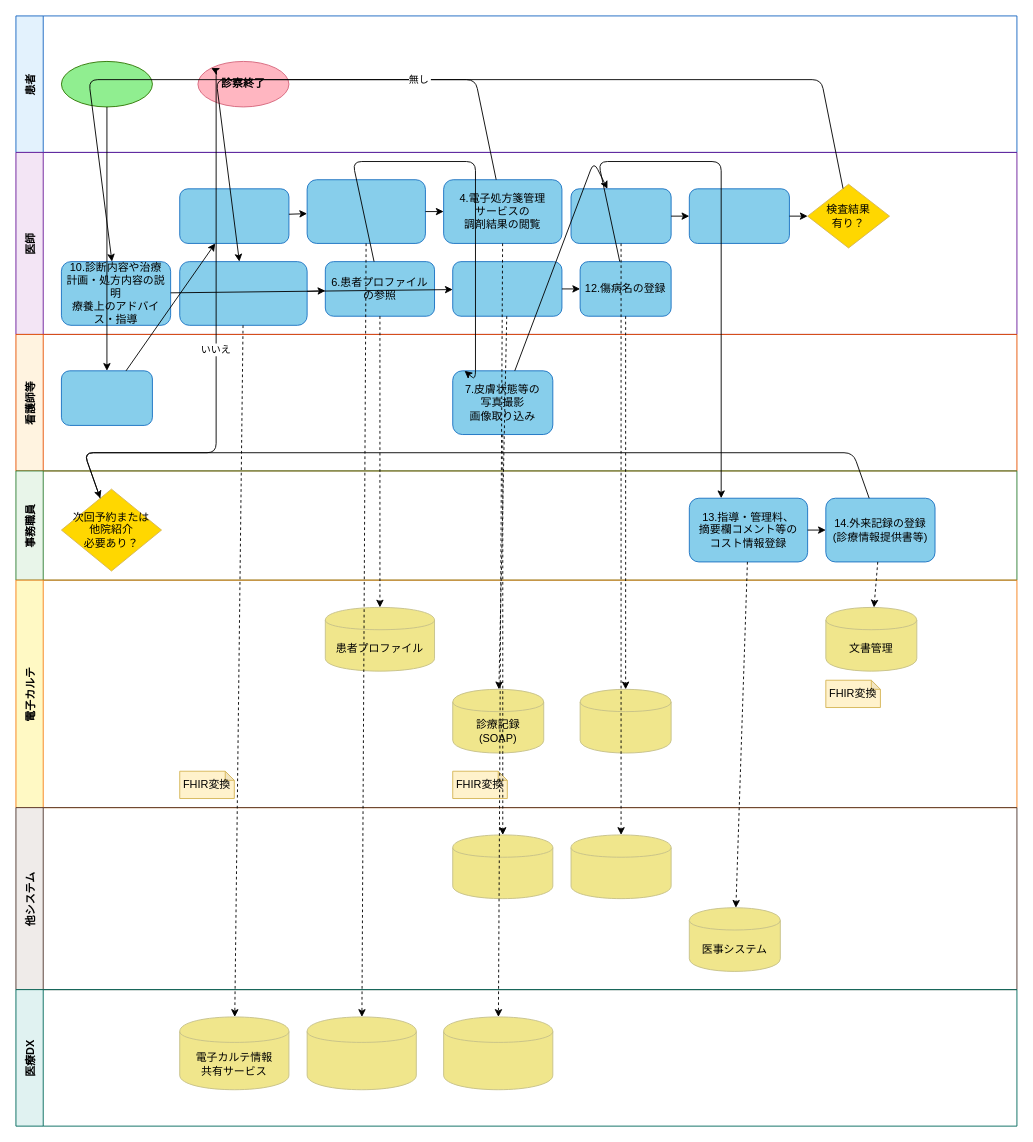
The diagram is 1033 pixels wide and 1142 high, and some of its shapes have lost their labels. Here are the shapes that lost their labels. From the top down, the centre of each, then its label:
At (106,84): "診察室入室".
At (234,215): "2.問診票、過去診療記録 患部の確認".
At (365,211): "3.オンライン資格確認等 システムの 医療情報・受診歴等の閲覧".
At (620,215): "8.医療用画像の閲覧".
At (738,215): "9.医療面接 (主訴等確認)、触診".
At (243,293): "5.電子カルテ情報共有 サービスの 診療情報提供書の閲覧".
At (507,288): "11.診療記録(SOAP) の登録".
At (106,397): "1.患者呼び込み 本人確認".
At (625,720): "傷病名".
At (502,866): "スキャナ・デジカメ".
At (620,866): "PACS (画像システム)".
At (361,1053): "オンライン資格 確認等システム".
At (498,1053): "電子処方箋 管理サービス".
